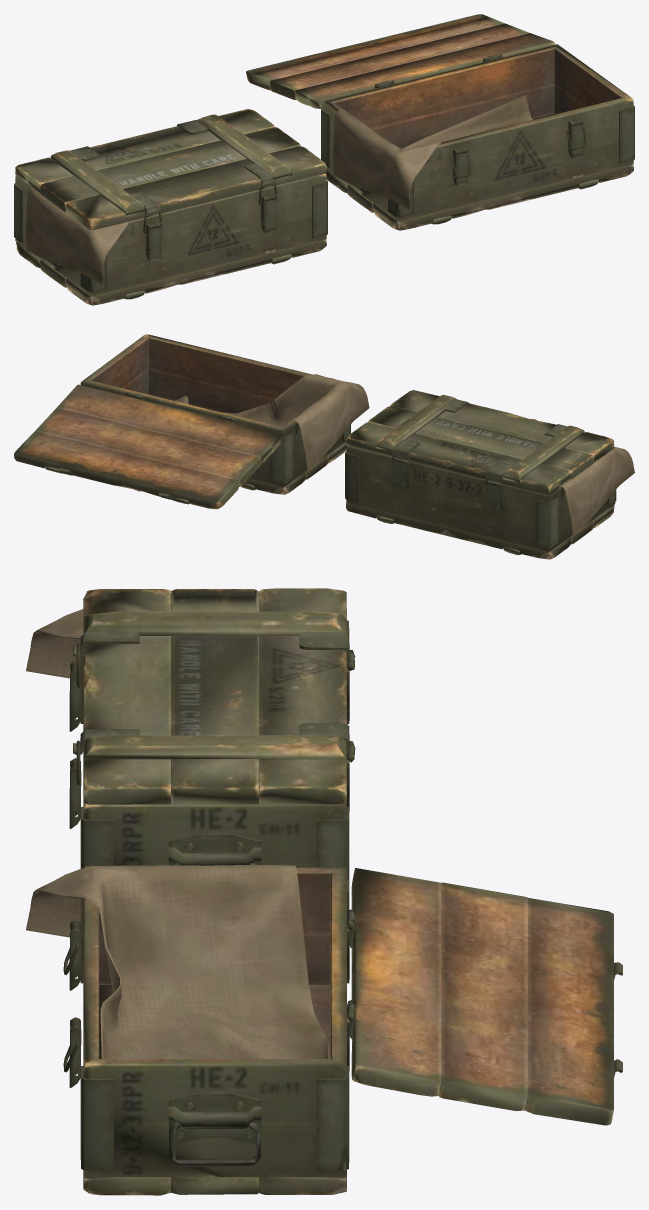
The model's file is crate.glb.
The picture shows the model from 3 angles, top to bottom: view 1: azimuth 30°, elevation 25°; view 2: azimuth 150°, elevation 25°; view 3: azimuth 270°, elevation 25°; orthographic projection. The views are drawn at different scales.
Parts seen in each view (by area): view 1: old_military_crate_b, old_military_crate_lid_a, old_military_crate_a, old_military_crate_lid_b, old_military_crate_cloth_b, old_military_crate_cloth_a, old_military_crate_latch_a, old_military_crate_latch_b; view 2: old_military_crate_lid_b, old_military_crate_lid_a, old_military_crate_a, old_military_crate_b, old_military_crate_cloth_b, old_military_crate_cloth_a; view 3: old_military_crate_lid_a, old_military_crate_lid_b, old_military_crate_b, old_military_crate_cloth_b, old_military_crate_a, old_military_crate_cloth_a, old_military_crate_latch_a, old_military_crate_latch_b.
Part boxes in pixels (x1=…): old_military_crate_b: x1=321, y1=44, x2=634, y2=230; old_military_crate_lid_a: x1=15, y1=109, x2=326, y2=230; old_military_crate_a: x1=14, y1=173, x2=327, y2=305; old_military_crate_lid_b: x1=246, y1=14, x2=554, y2=108; old_military_crate_cloth_b: x1=333, y1=95, x2=532, y2=209; old_military_crate_cloth_a: x1=25, y1=186, x2=129, y2=284; old_military_crate_latch_a: x1=146, y1=193, x2=276, y2=261; old_military_crate_latch_b: x1=453, y1=118, x2=583, y2=186; old_military_crate_lid_b: x1=14, y1=384, x2=282, y2=509; old_military_crate_lid_a: x1=346, y1=390, x2=614, y2=495; old_military_crate_a: x1=345, y1=446, x2=616, y2=559; old_military_crate_b: x1=80, y1=334, x2=350, y2=494; old_military_crate_cloth_b: x1=174, y1=374, x2=369, y2=470; old_military_crate_cloth_a: x1=562, y1=447, x2=634, y2=535; old_military_crate_lid_a: x1=73, y1=588, x2=355, y2=805; old_military_crate_lid_b: x1=347, y1=868, x2=622, y2=1125; old_military_crate_b: x1=80, y1=866, x2=354, y2=1195; old_military_crate_cloth_b: x1=26, y1=865, x2=329, y2=1058; old_military_crate_a: x1=80, y1=608, x2=355, y2=886; old_military_crate_cloth_a: x1=26, y1=609, x2=83, y2=678; old_military_crate_latch_a: x1=69, y1=661, x2=81, y2=828; old_military_crate_latch_b: x1=69, y1=920, x2=81, y2=1087.
Size of the model in its own units: 1.81 by 0.3009 by 0.9743.
1 material, 1 textured.
